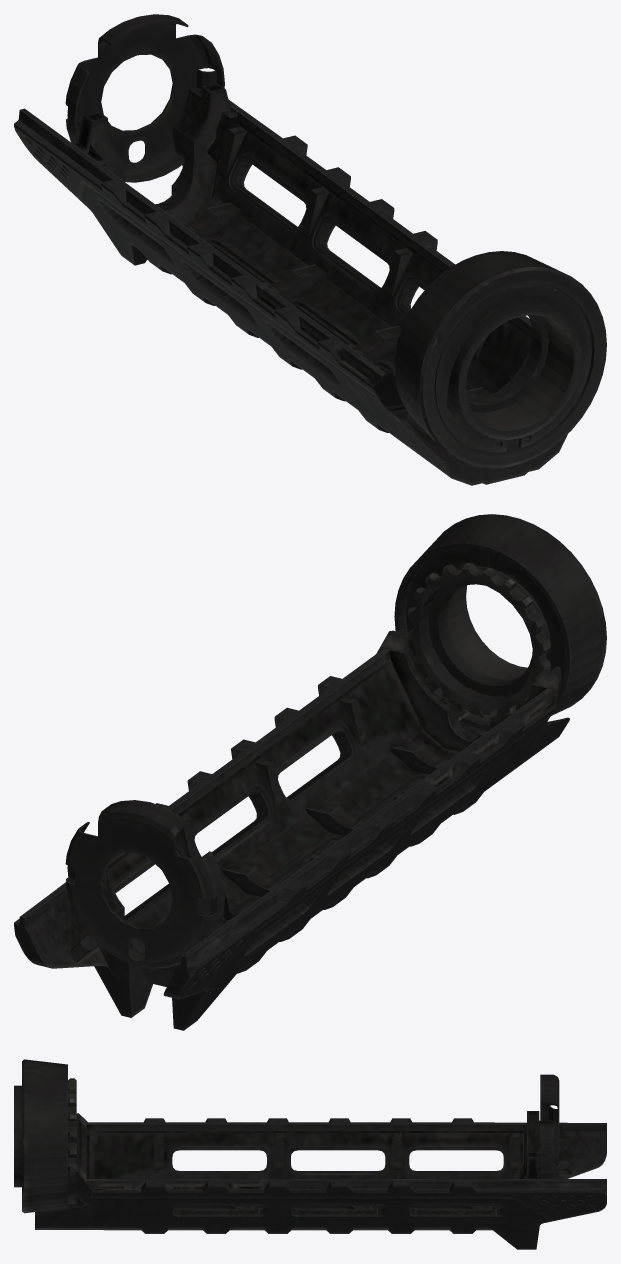
The picture shows the model from 3 angles, top to bottom: view 1: azimuth 30°, elevation 25°; view 2: azimuth 150°, elevation 25°; view 3: azimuth 270°, elevation 25°; orthographic projection. The views are drawn at different scales.
Visible parts, largest first — view 1: TW_5d00e0cbd7ad1a6c6566a42d_PZ_Import; view 2: TW_5d00e0cbd7ad1a6c6566a42d_PZ_Import; view 3: TW_5d00e0cbd7ad1a6c6566a42d_PZ_Import.
Part boxes in pixels (x1,y1,x2,y2): TW_5d00e0cbd7ad1a6c6566a42d_PZ_Import: [14, 14, 606, 485]; TW_5d00e0cbd7ad1a6c6566a42d_PZ_Import: [14, 514, 606, 1030]; TW_5d00e0cbd7ad1a6c6566a42d_PZ_Import: [14, 1059, 606, 1249].
Bounding box in the file's own units: 0.0311 × 0.1158 × 0.0371.
1 material, 1 textured.
